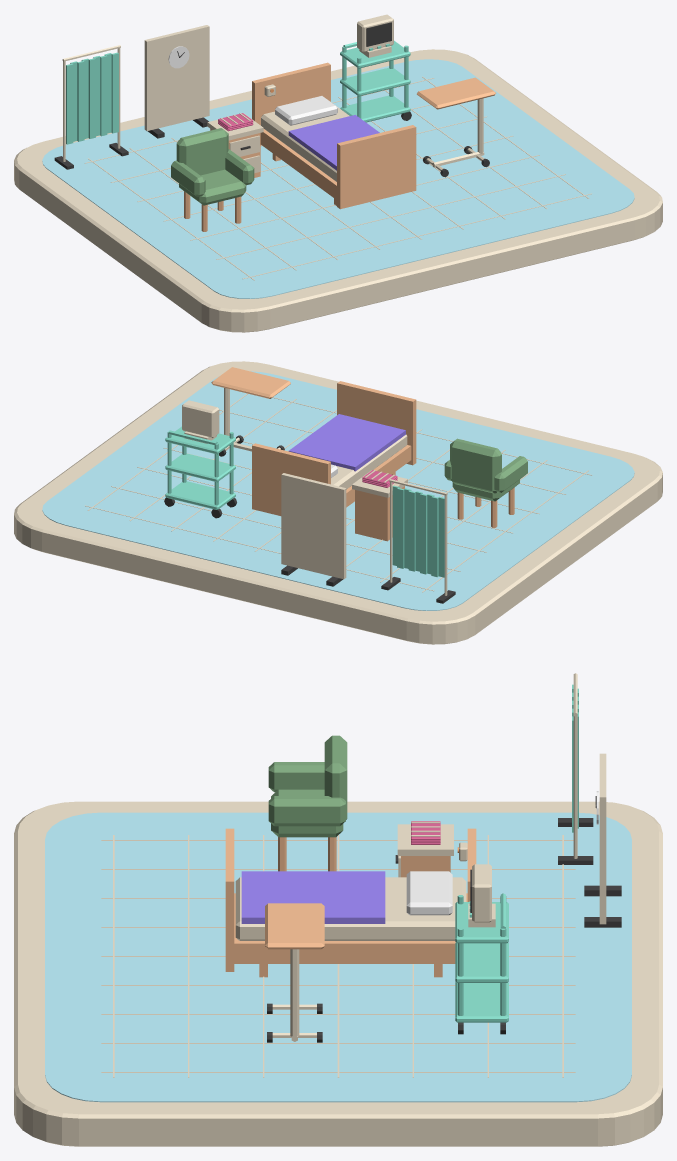
File: room.fbx
3 renders of one model, top to bottom at view 1: azimuth 30°, elevation 25°; view 2: azimuth 150°, elevation 25°; view 3: azimuth 270°, elevation 25°, orthographic. The views are drawn at different scales.
Visible parts, largest first — view 1: COM-02 Floor Surface, COM-01 Rounded Base Direct, Panel, End board, End board.001, Blanket, Back, Mattress, Table top, Frame, Cushion, Pillow (+15 smaller); view 2: COM-02 Floor Surface, COM-01 Rounded Base Direct, Panel, Blanket, End board.001, End board, Back, Body, Table top, Housing, Tray, Tray.001 (+11 smaller); view 3: COM-02 Floor Surface, COM-01 Rounded Base Direct, Blanket, Mattress, Frame, Table top, Arm.001, Pillow, Tray, Tray.001, Arm, Back (+9 smaller).
Boxes of the visible parts, x1,y1,x2,y2 form: COM-02 Floor Surface: (42,59,634,298); COM-01 Rounded Base Direct: (14,49,662,332); Panel: (144,25,209,130); End board: (337,125,416,209); End board.001: (252,62,330,145); Blanket: (288,115,379,170); Back: (176,128,228,175); Mattress: (261,101,349,181); Table top: (417,77,495,109); Frame: (260,129,336,199); Cushion: (179,169,246,205); Pillow: (275,96,337,125); COM-02 Floor Surface: (42,371,634,610); COM-01 Rounded Base Direct: (14,361,662,644); Panel: (281,473,346,579); Blanket: (288,414,405,471); End board.001: (252,443,330,515); End board: (337,381,416,465); Back: (450,438,501,493); Body: (355,486,404,541); Table top: (211,367,290,398); Housing: (182,400,219,437); Tray: (165,481,235,509); Tray.001: (165,453,235,482); COM-02 Floor Surface: (45,812,631,1102); COM-01 Rounded Base Direct: (14,801,662,1146); Blanket: (241,871,385,923); Mattress: (235,877,466,940); Frame: (234,893,467,963); Table top: (265,903,324,949); Arm.001: (268,796,345,826); Pillow: (406,871,452,915); Tray: (455,982,508,1022); Tray.001: (455,942,508,982); Arm: (268,762,324,792); Back: (324,735,347,819).
Bounding box in the file's own units: 600 × 163 × 520.
